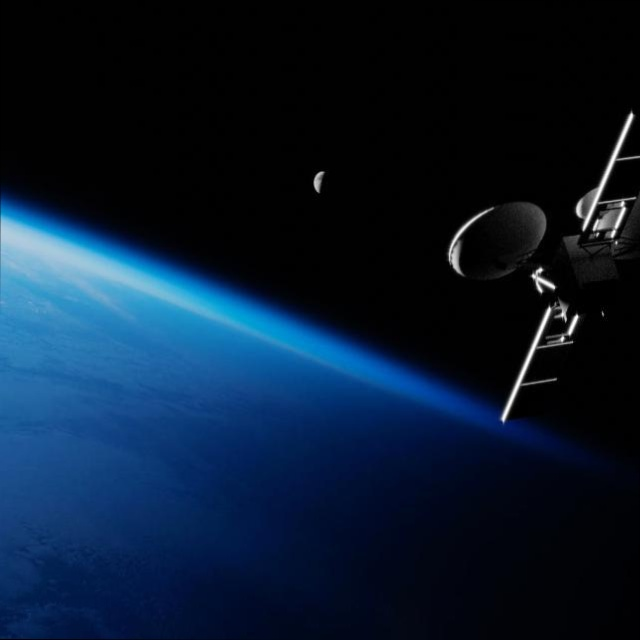satellite: (447, 96, 640, 448)
